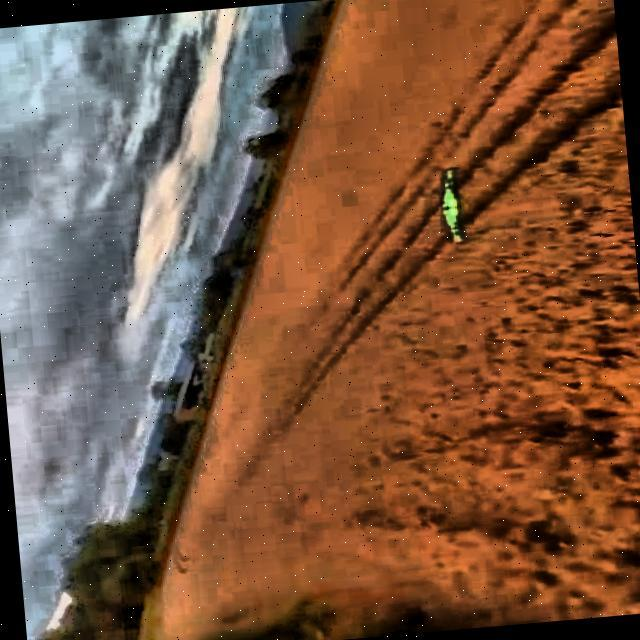iha: (431, 194, 472, 215)
